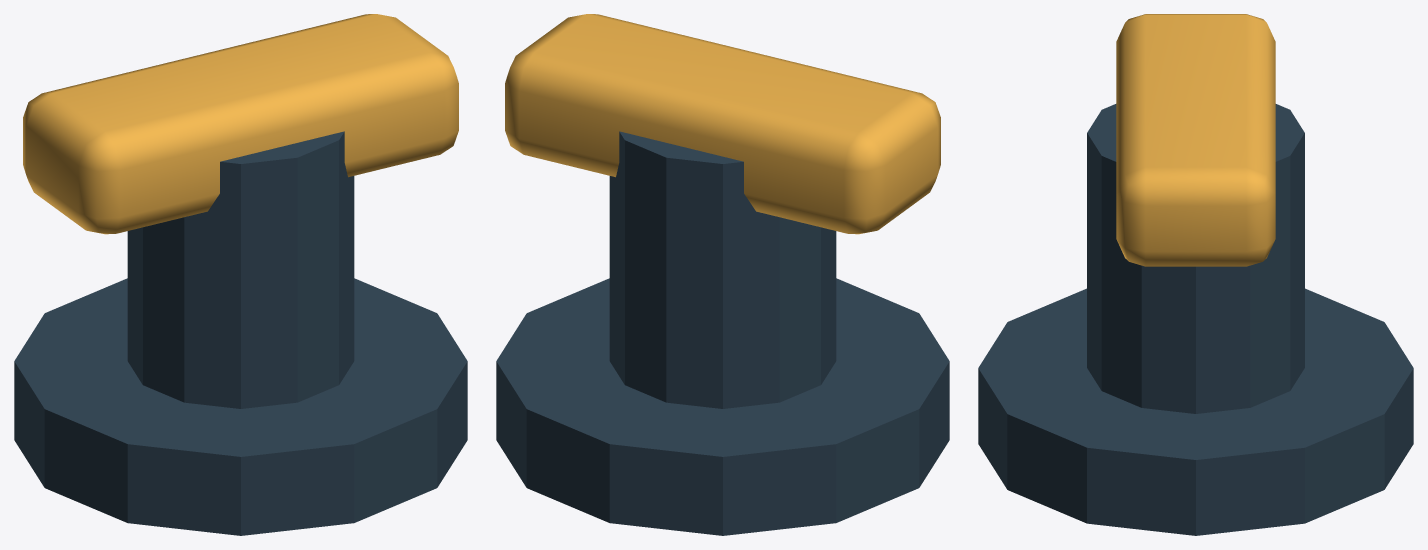
File: Bollard.fbx
3 views of the same model, side by side, from view 1: azimuth 30°, elevation 25°; view 2: azimuth 150°, elevation 25°; view 3: azimuth 270°, elevation 25° (orthographic). The views are drawn at different scales.
Parts seen in each view (by area): view 1: Bollard_Static; view 2: Bollard_Static; view 3: Bollard_Static.
Boxes of the visible parts, <box> form: Bollard_Static: <box>14,14,467,535</box>; Bollard_Static: <box>496,14,949,535</box>; Bollard_Static: <box>978,14,1413,535</box>.
Bounding box in the file's own units: 0.52 × 0.465 × 0.52.
1 material, 1 textured.
